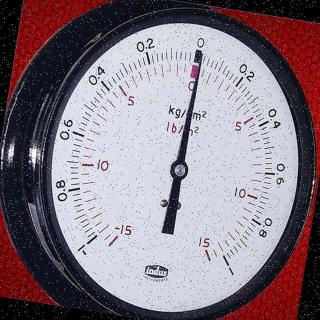gauge: (33, 1, 319, 319), (73, 224, 107, 258), (210, 248, 242, 278), (168, 160, 190, 180), (198, 52, 206, 64)
